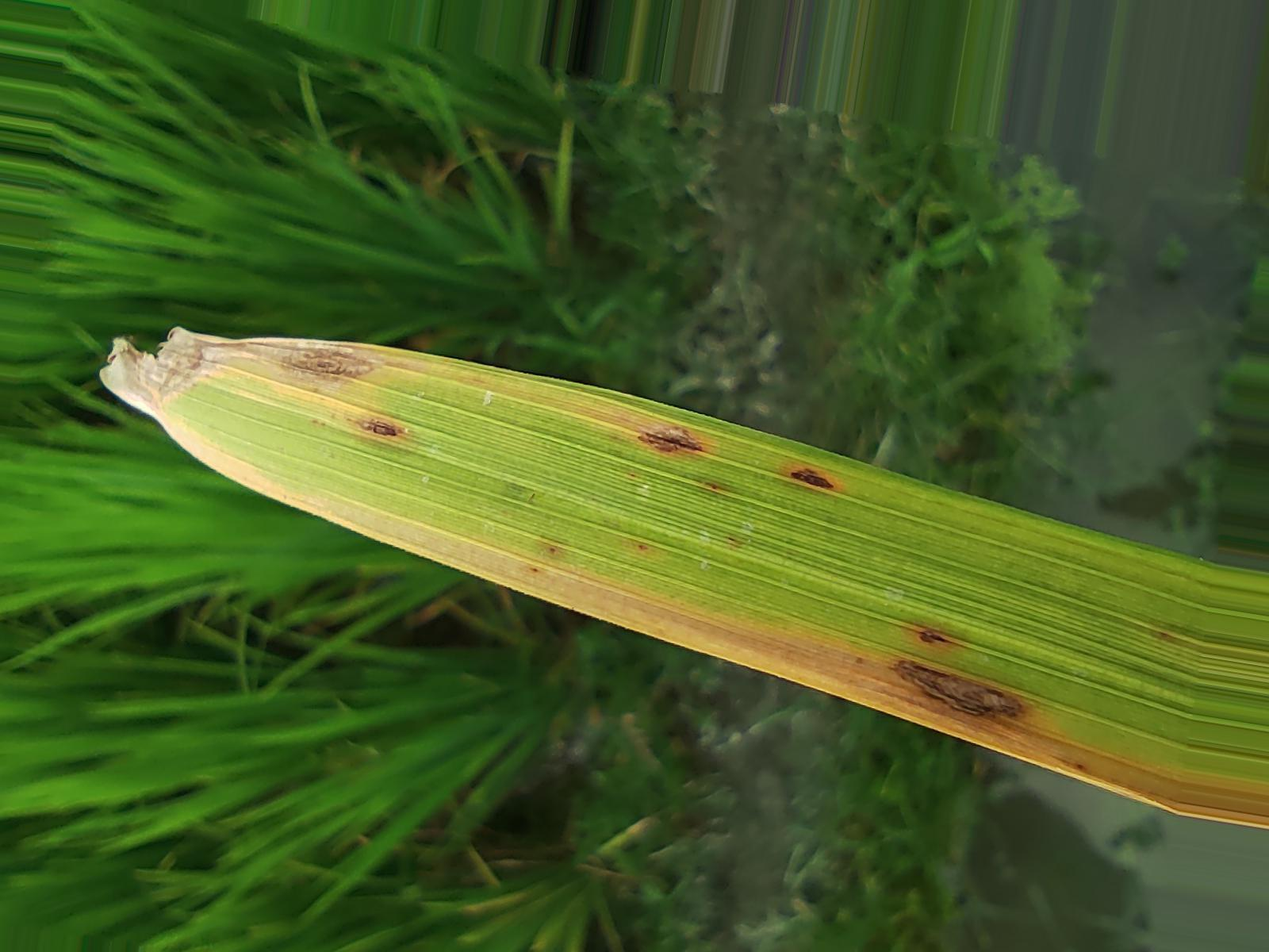LEAF: (101, 328, 1213, 809)
NBS: (783, 470, 836, 490), (354, 421, 406, 436)
